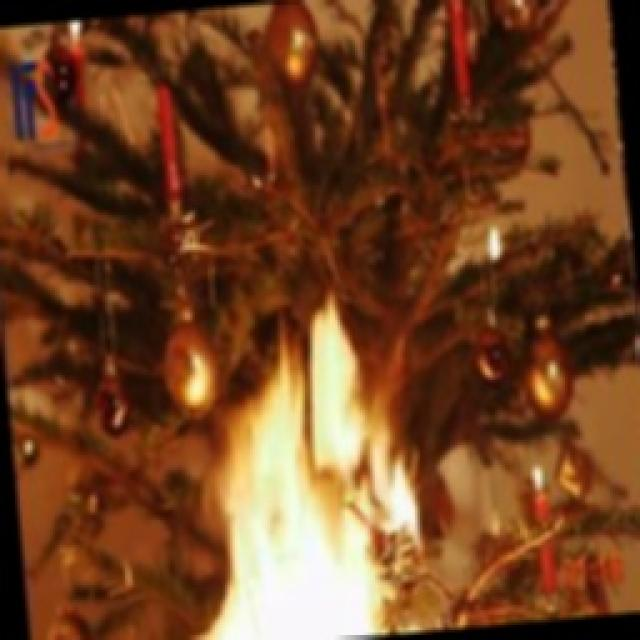fire: (138, 287, 451, 640)
